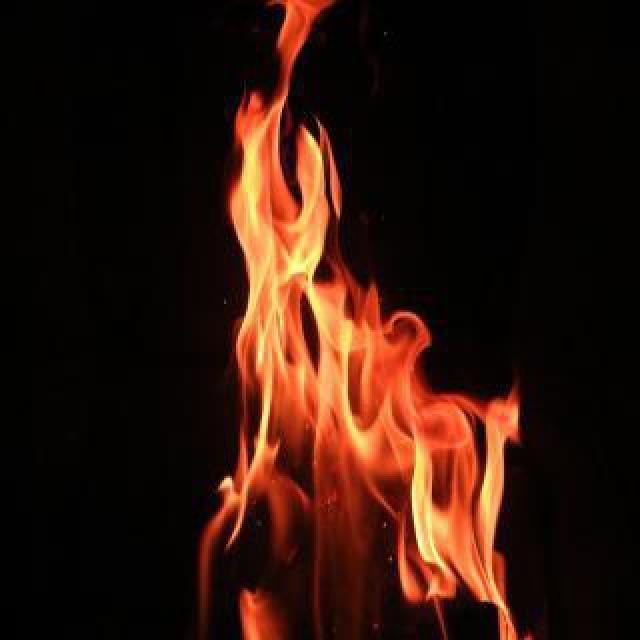Fire: (192, 8, 542, 638)
